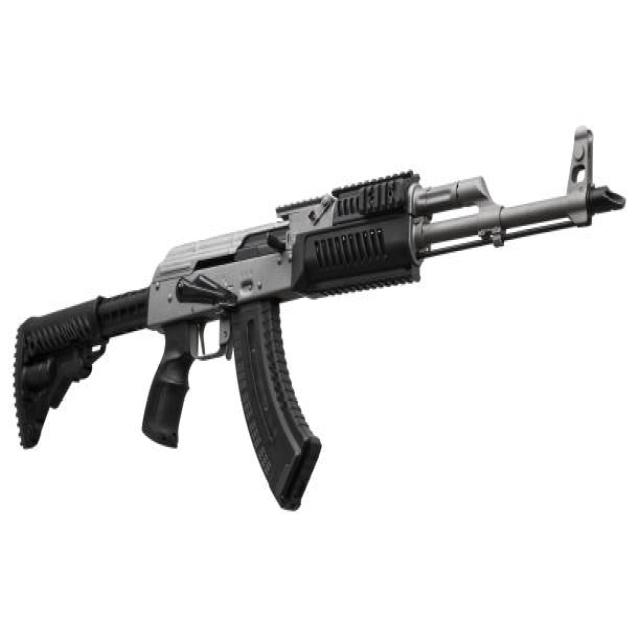rifle: (11, 122, 631, 520)
